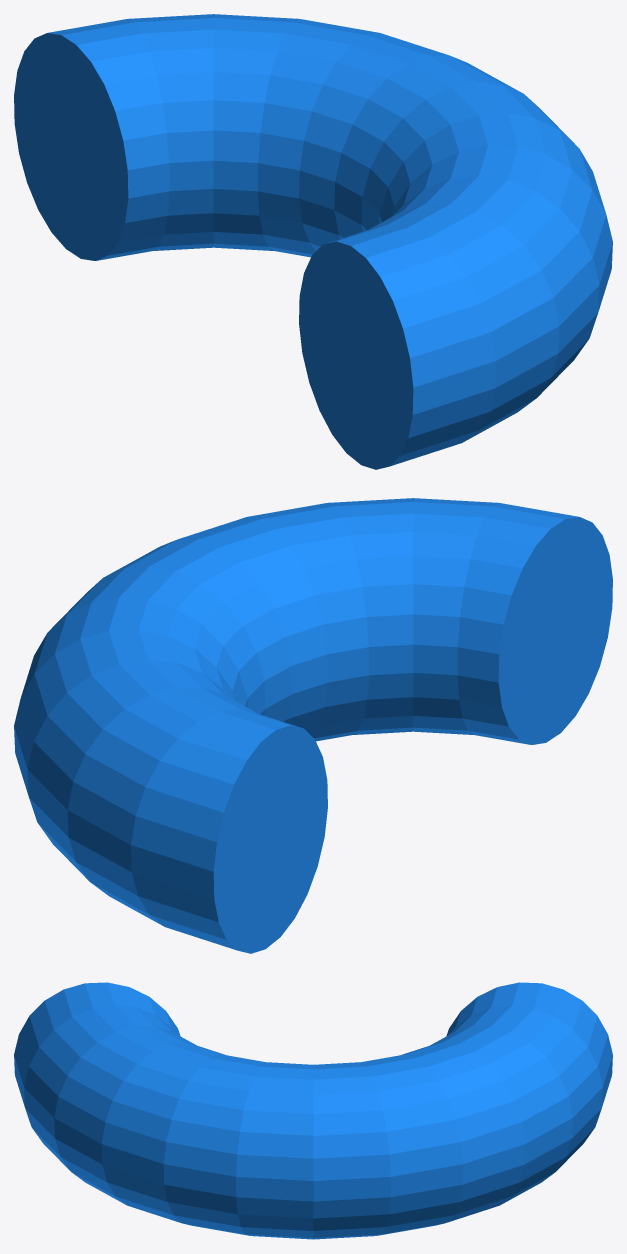
Rendered from Proto_Block_Torus_Half_01.fbx.
3 renders of one model, top to bottom at view 1: azimuth 30°, elevation 25°; view 2: azimuth 150°, elevation 25°; view 3: azimuth 270°, elevation 25°, orthographic. The views are drawn at different scales.
Visible parts, largest first — view 1: Proto_Block_Torus_Half_01; view 2: Proto_Block_Torus_Half_01; view 3: Proto_Block_Torus_Half_01.
Part boxes in pixels (x1,y1,x2,y2): Proto_Block_Torus_Half_01: [14, 14, 612, 469]; Proto_Block_Torus_Half_01: [14, 498, 612, 953]; Proto_Block_Torus_Half_01: [14, 982, 612, 1239].
Size of the model in its own units: 0.5 by 0.2924 by 1.
